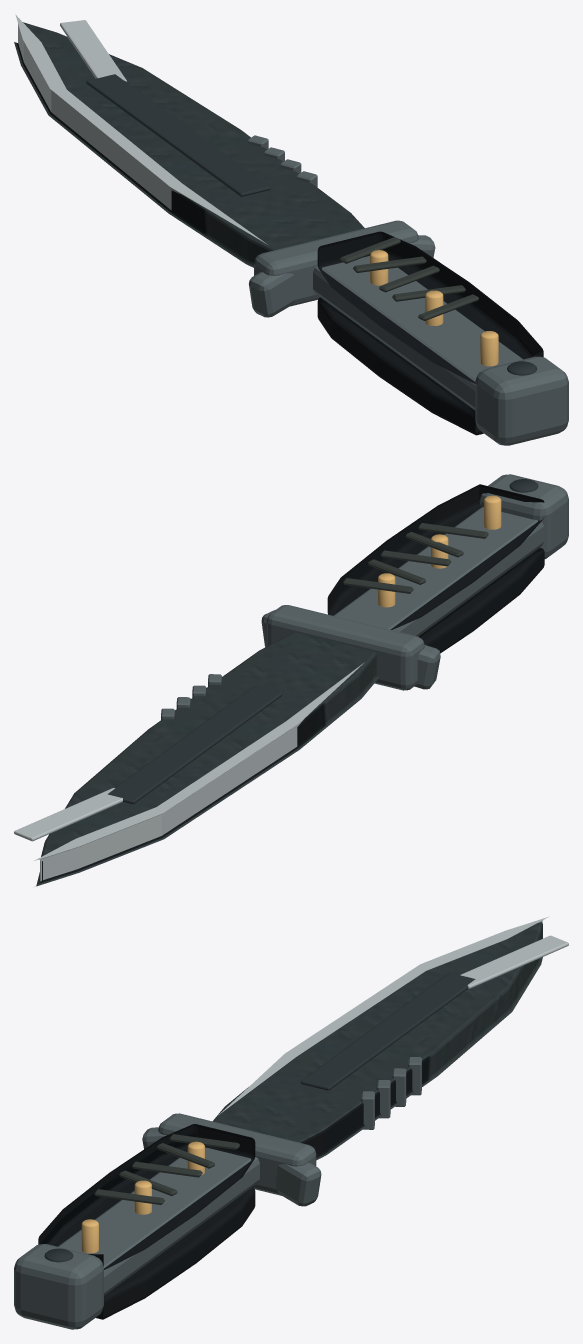
File: pass65-field-knife-fp-lod1.glb
3 renders of one model, top to bottom at view 1: azimuth 30°, elevation 25°; view 2: azimuth 150°, elevation 25°; view 3: azimuth 330°, elevation 25°, orthographic. The views are drawn at different scales.
Parts seen in each view (by area): view 1: FieldKnife_Blade_fp-lod1_Mesh, Cube_001.029, FieldKnife_HandleScale_1_001, field-knife-cutting-edge, Cube_001.044, FieldKnife_HandleScale_-1_001, field-knife-fuller, Cube_001.026, Cube_001.028, Cube_001.025, Cylinder_001.004, Cube_001.033; view 2: FieldKnife_Blade_fp-lod1_Mesh, field-knife-cutting-edge, Cube_001.029, FieldKnife_HandleScale_1_001, Cube_001.026, field-knife-fuller, FieldKnife_HandleScale_-1_001, Cube_001.044, Cube_001.025, Cube_001.028, Cylinder_001.004, Cube_001.035 (+2 smaller); view 3: FieldKnife_Blade_fp-lod1_Mesh, Cube_001.029, FieldKnife_HandleScale_1_001, Cube_001.044, FieldKnife_HandleScale_-1_001, field-knife-fuller, field-knife-cutting-edge, Cube_001.026, Cube_001.025, Cube_001.027, Cylinder_001.004, Cube_001.035 (+2 smaller).
Boxes of the visible parts, x1,y1,x2,y2 form: FieldKnife_Blade_fp-lod1_Mesh: (14,22,364,267); Cube_001.029: (313,256,522,410); FieldKnife_HandleScale_1_001: (317,231,543,383); field-knife-cutting-edge: (15,14,267,244); Cube_001.044: (475,356,568,445); FieldKnife_HandleScale_-1_001: (317,297,483,435); field-knife-fuller: (86,74,270,196); Cube_001.026: (254,220,418,306); Cube_001.028: (249,272,295,317); Cube_001.025: (60,20,126,81); Cylinder_001.004: (480,331,498,366); Cube_001.033: (353,256,426,272); FieldKnife_Blade_fp-lod1_Mesh: (36,632,378,886); field-knife-cutting-edge: (33,662,364,887); Cube_001.029: (333,507,544,636); FieldKnife_HandleScale_1_001: (327,484,544,629); Cube_001.026: (266,605,424,690); field-knife-fuller: (108,686,282,803); FieldKnife_HandleScale_-1_001: (418,548,544,653); Cube_001.044: (479,474,568,558); Cube_001.025: (14,788,122,841); Cube_001.028: (414,645,440,689); Cylinder_001.004: (484,495,501,529); Cube_001.035: (380,550,451,566); FieldKnife_Blade_fp-lod1_Mesh: (212,922,542,1160); Cube_001.029: (58,1147,259,1295); FieldKnife_HandleScale_1_001: (38,1124,255,1269); Cube_001.044: (14,1244,103,1329); FieldKnife_HandleScale_-1_001: (96,1187,255,1319); field-knife-fuller: (300,972,475,1090); field-knife-cutting-edge: (218,916,549,1115); Cube_001.026: (158,1113,316,1195); Cube_001.025: (460,935,568,988); Cube_001.027: (276,1163,321,1206); Cylinder_001.004: (81,1219,98,1253); Cube_001.035: (131,1161,202,1177).
Size of the model in its own units: 0.4161 by 0.19 by 2.09.
Materials: 7 (2 with a texture image).
